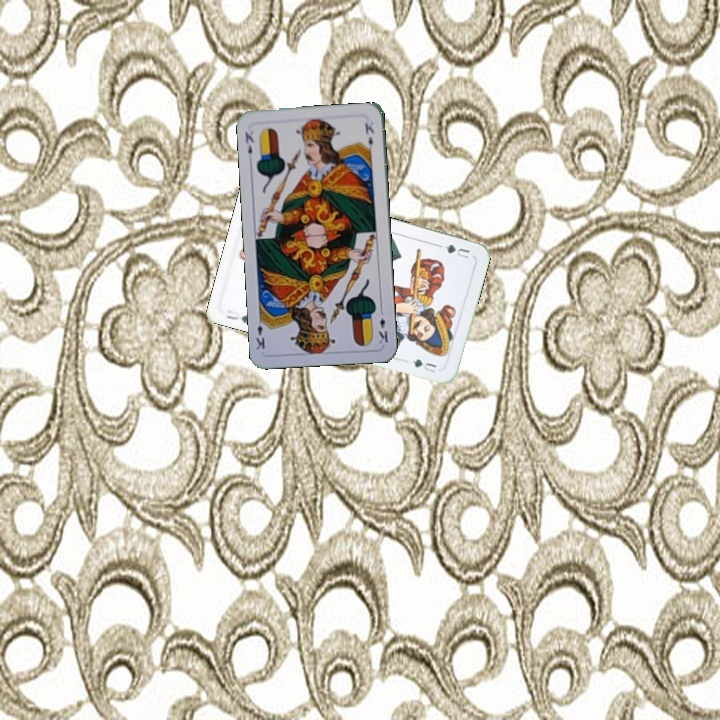EK: (375, 305, 391, 346), (241, 128, 257, 157)
GU: (435, 240, 472, 261), (221, 306, 252, 326)
